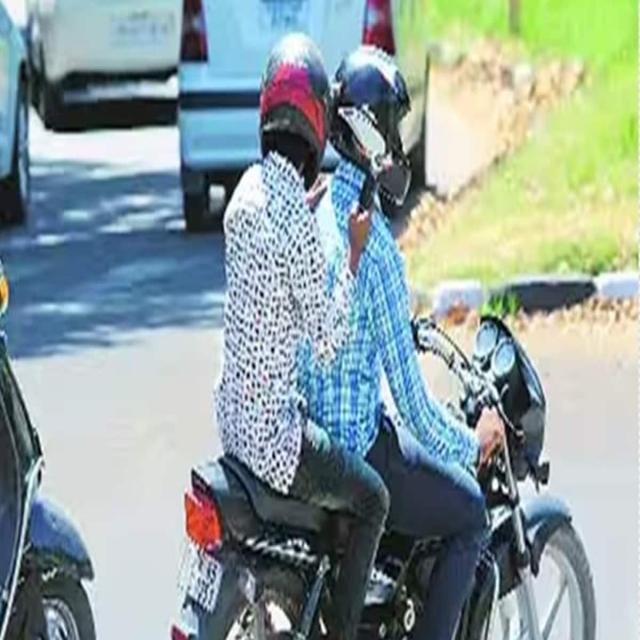motorcycle: (171, 34, 595, 639)
